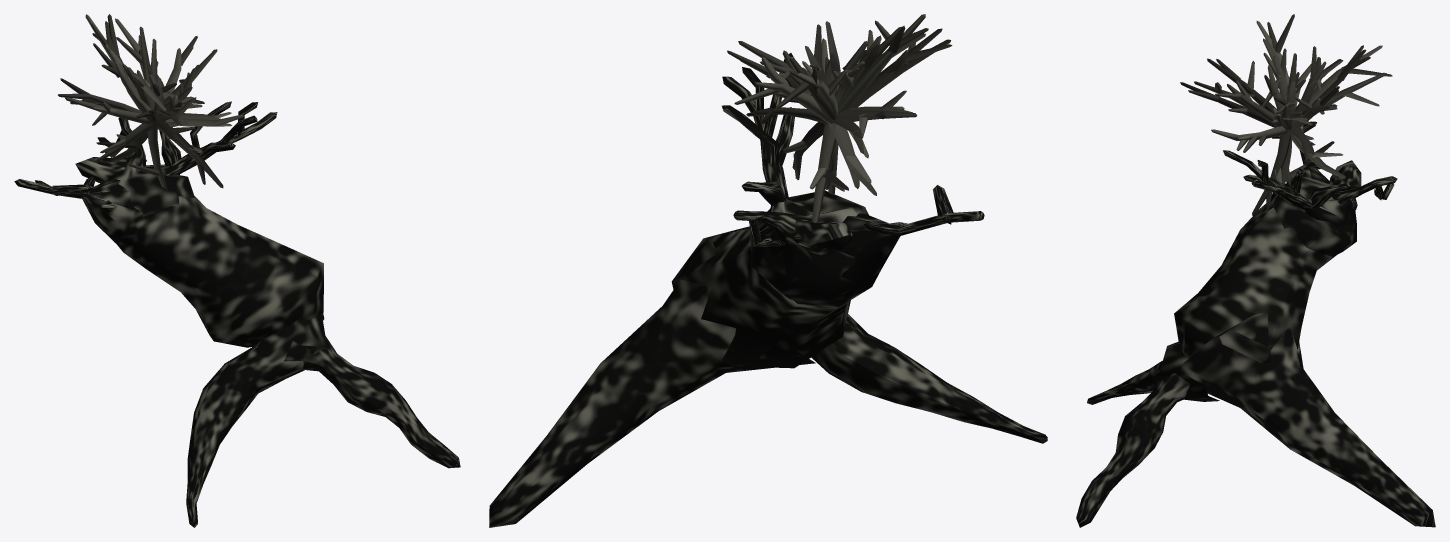
Rendered from VerTreeDead07.glb.
3 views of the same model, side by side, from view 1: azimuth 30°, elevation 25°; view 2: azimuth 150°, elevation 25°; view 3: azimuth 270°, elevation 25° (orthographic). The views are drawn at different scales.
Visible parts, largest first — view 1: VerTreeDead07_limbs; view 2: VerTreeDead07_limbs; view 3: VerTreeDead07_limbs.
Part boxes in pixels (box(x1,y1,x2,y2)): VerTreeDead07_limbs: box(14, 14, 460, 527); VerTreeDead07_limbs: box(489, 14, 1047, 527); VerTreeDead07_limbs: box(1076, 14, 1435, 527).
Bounding box in the file's own units: 4.04 × 4.7 × 3.9.
Materials: 2 (1 with a texture image).
